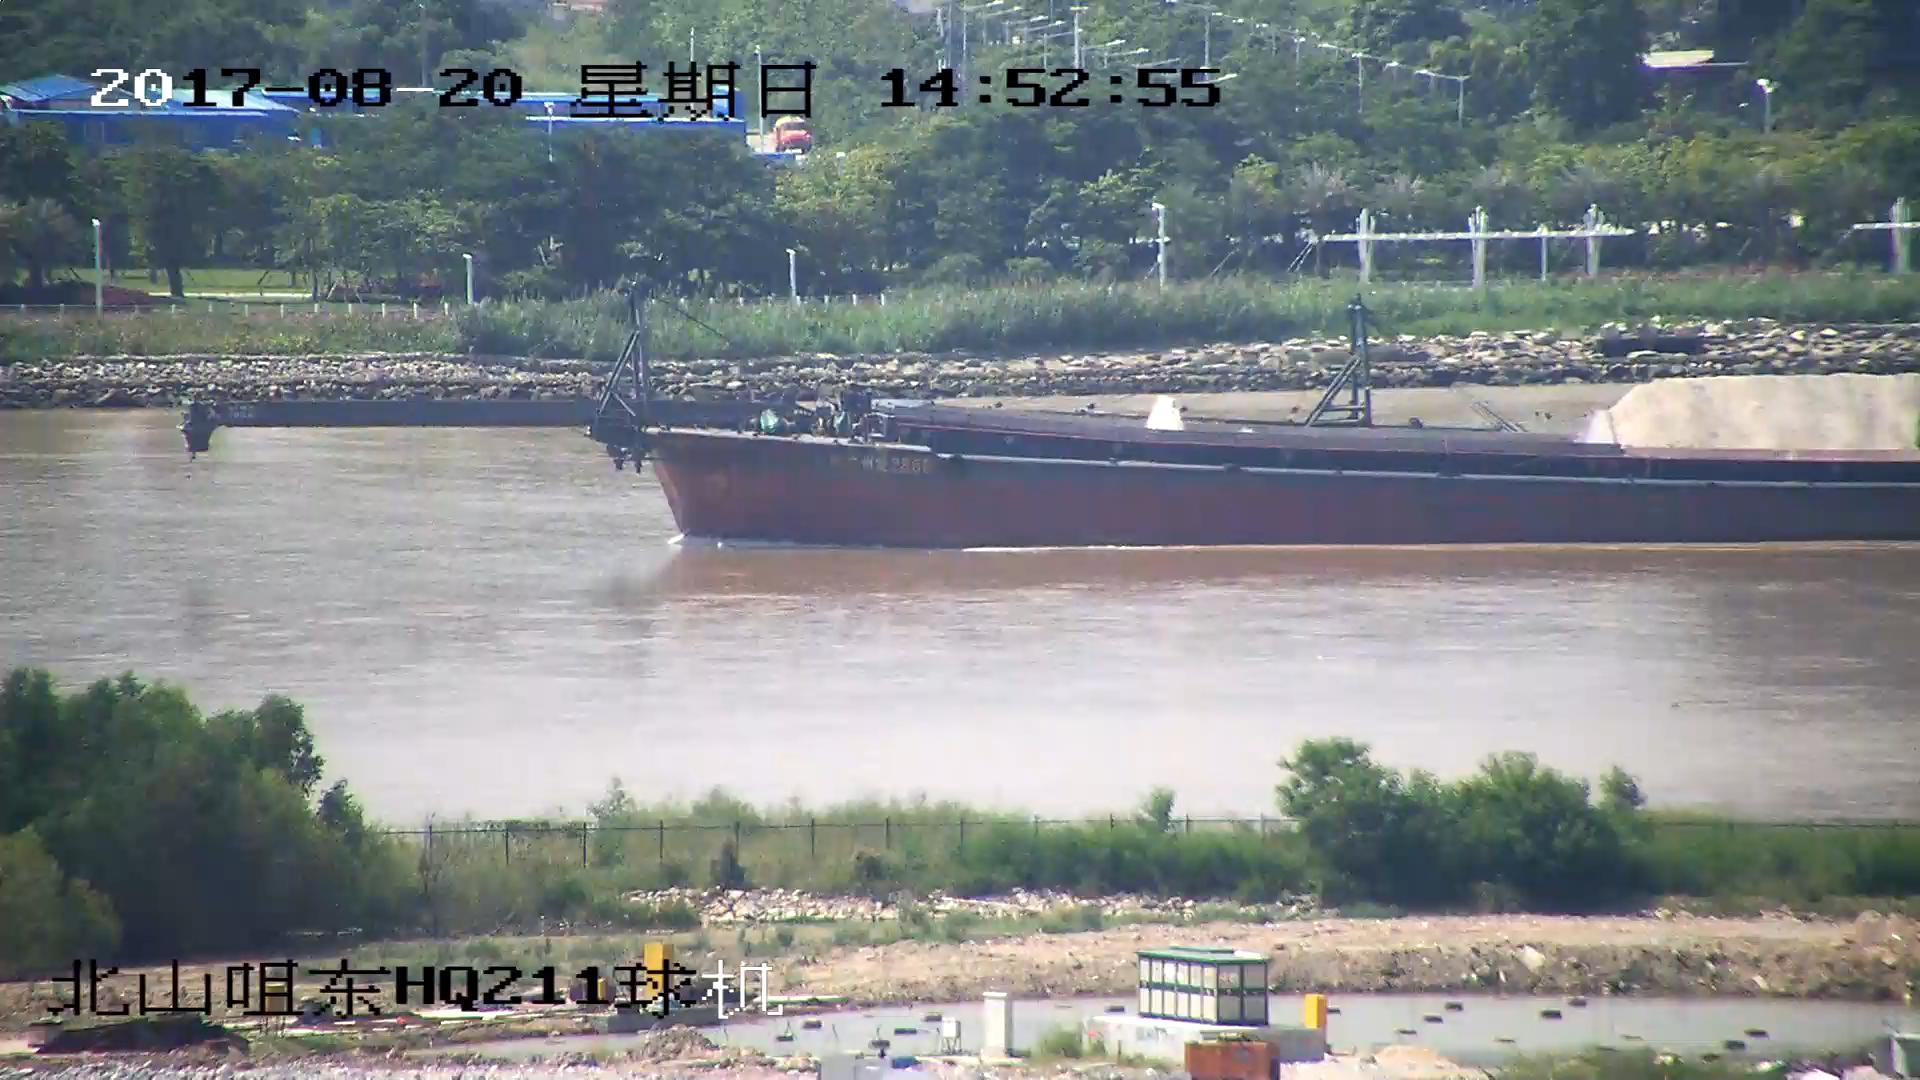Ship: (196, 291, 1920, 547), (1095, 301, 1920, 467)
